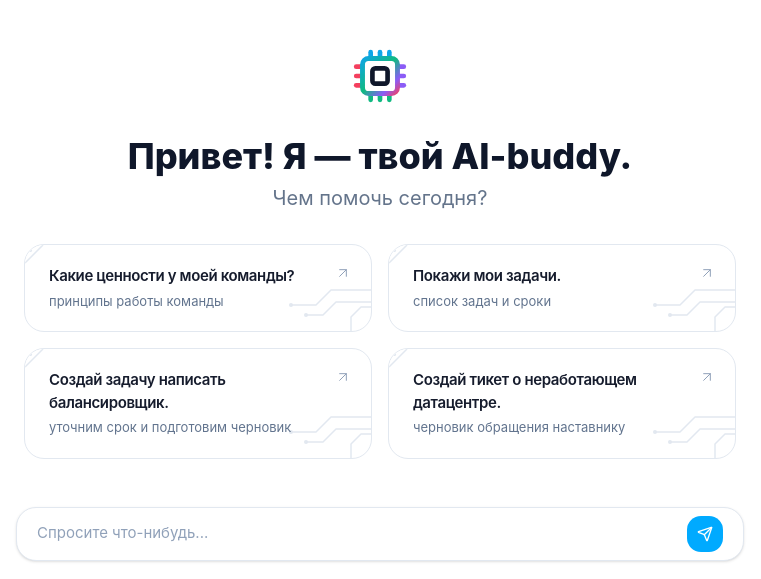
Test: sends the exact quick request: Покажи мои задачи.
Later steps or results of the test are not shown.
Click the button "Покажи мои задачи. список задач и сроки".
click(562, 288)  # box [388,244,736,332]
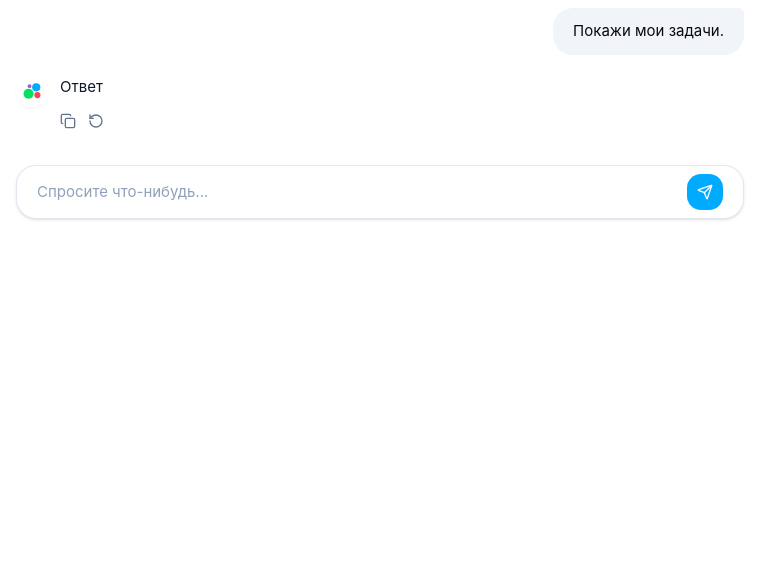
Expected: the text "Ответ" is shown, [60,76,103,96]
